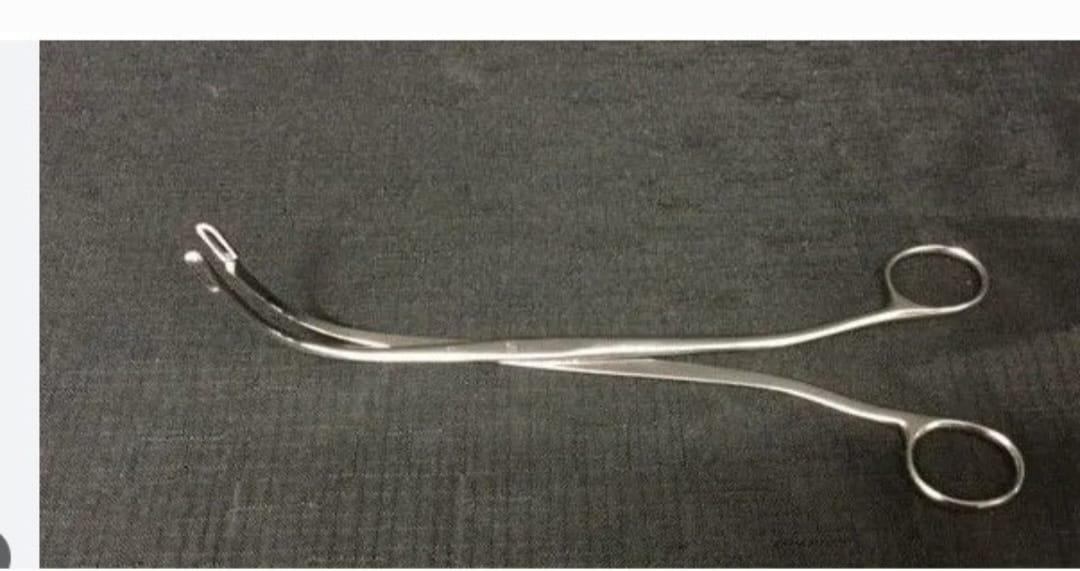Randall Forceps: (173, 178, 1033, 515)
